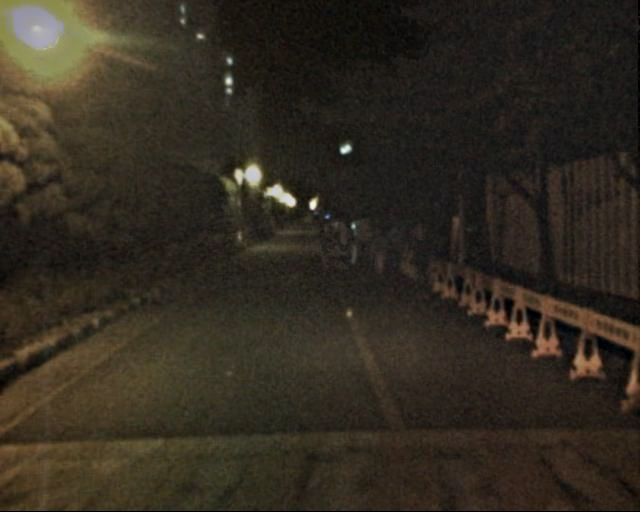person: (402, 224, 436, 306), (351, 215, 375, 274), (384, 219, 408, 277), (329, 216, 352, 273), (313, 220, 334, 272), (370, 229, 390, 278)
